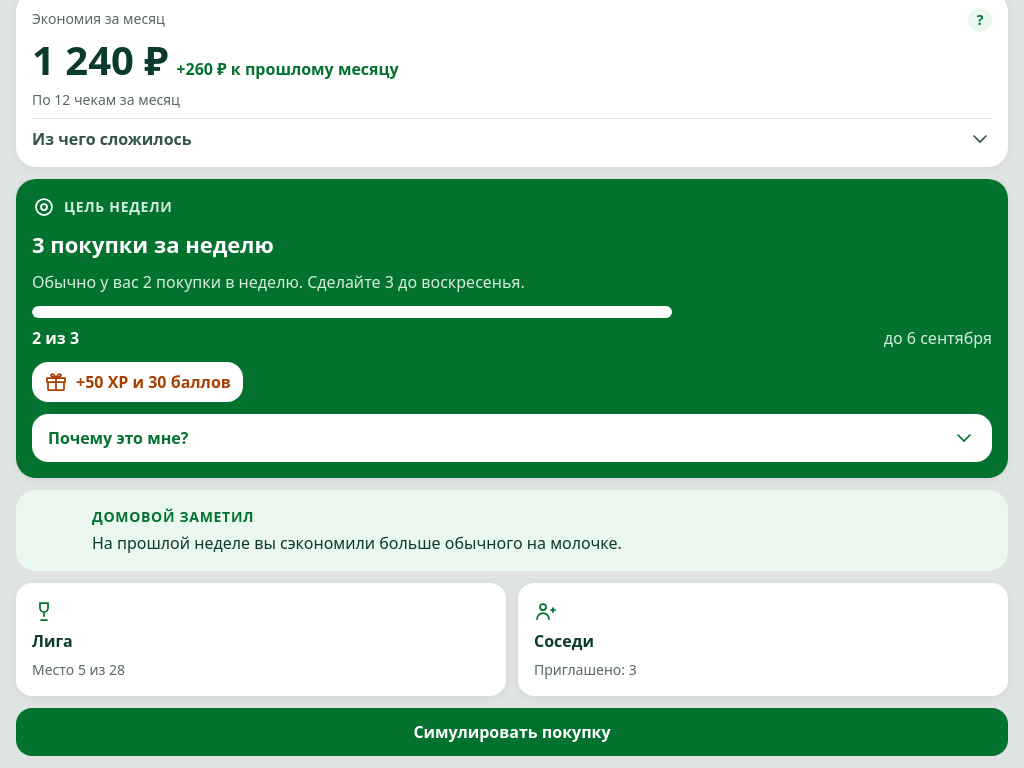
Test: ReceiptSheet › по клику «Симулировать покупку» показывает чек с позициями из черновика
The width and height of the screenshot is (1024, 768).
(page scrolled)
Expected: the text "2 из 3" is shown, [32, 326, 79, 350]
Click the button "Симулировать покупку": point(512, 732) [16, 708, 1008, 756]
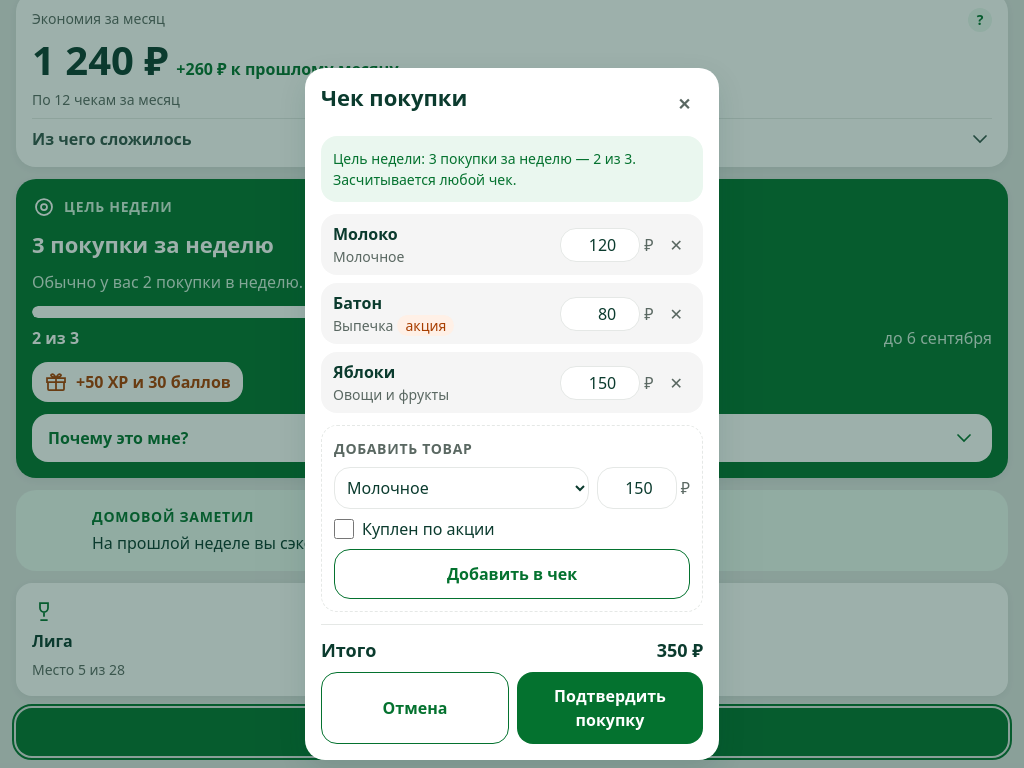
Result: the number of list items is 3 at [321, 214, 703, 275]; [321, 283, 703, 344]; [321, 352, 703, 413]
Result: the text with test id "receipt-total" reads "350 ₽" at [657, 638, 703, 662]
